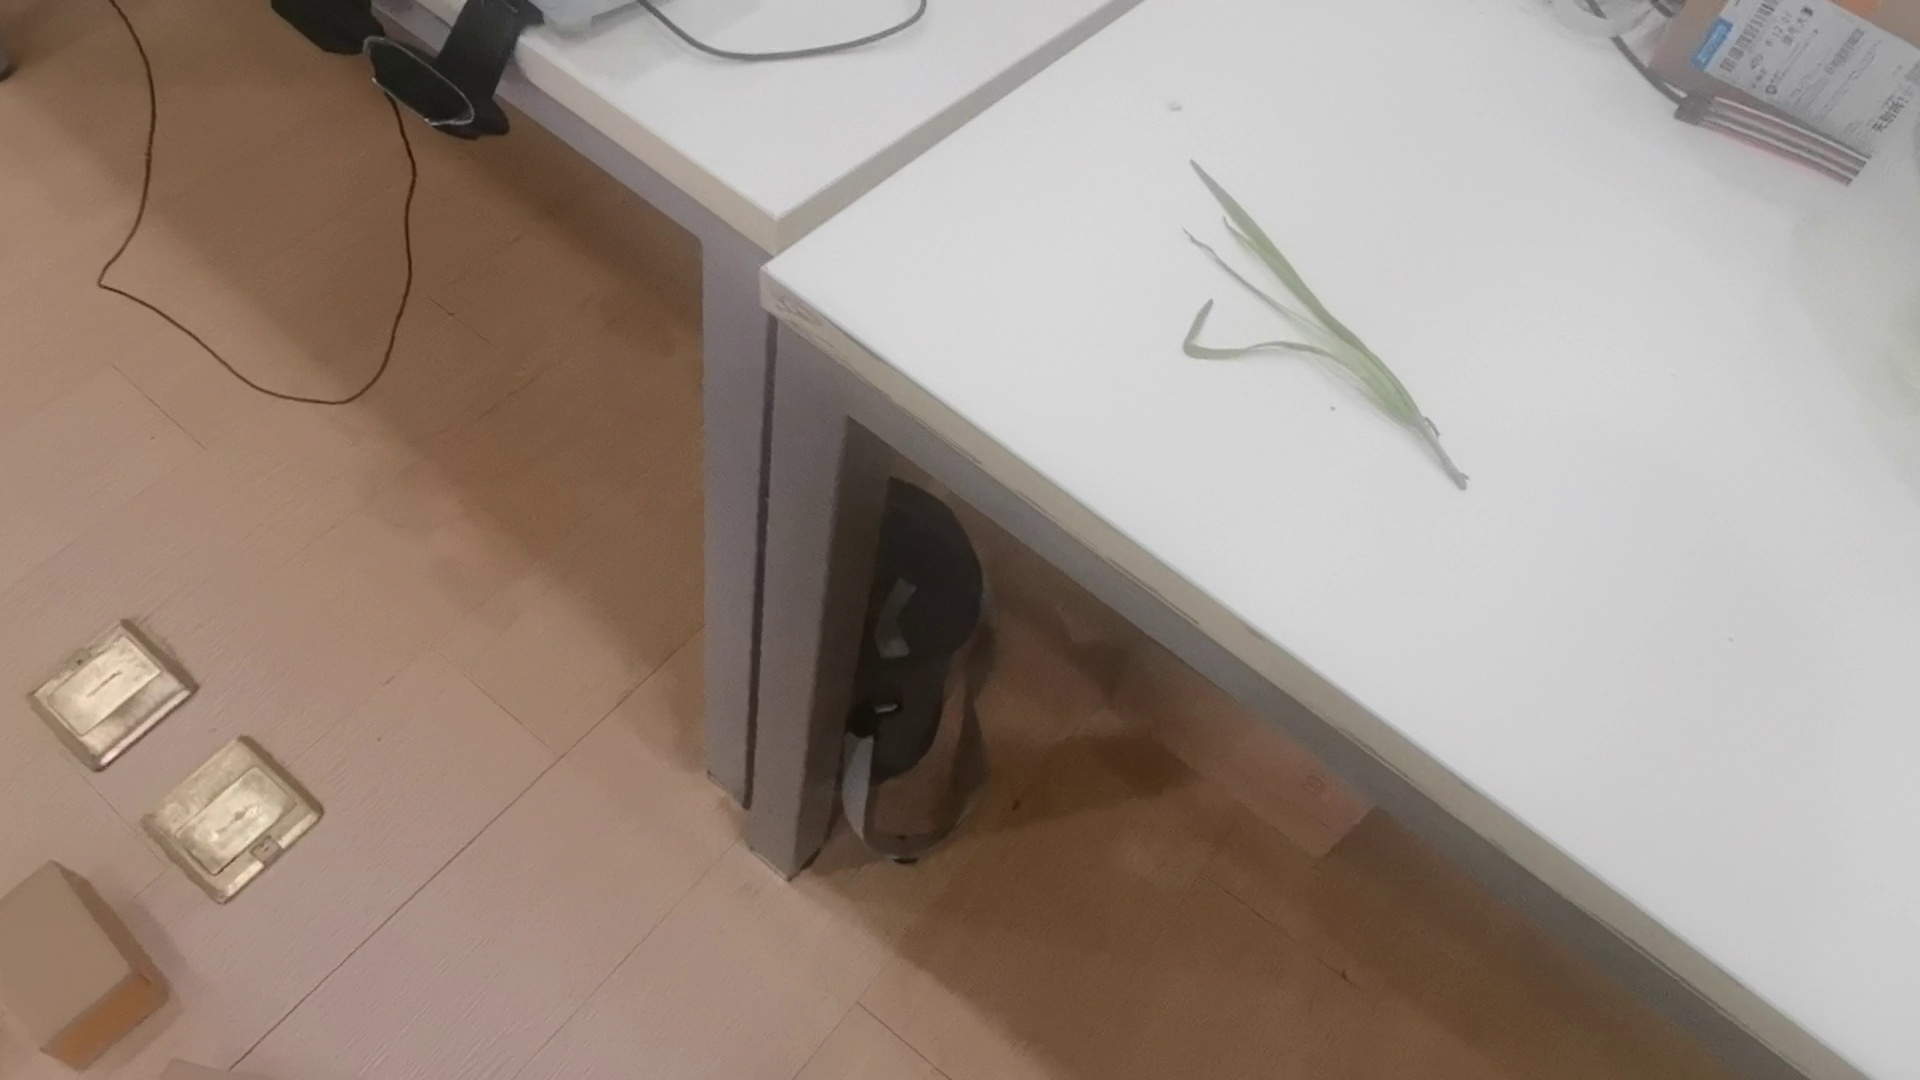chives: (1183, 162, 1476, 497)
